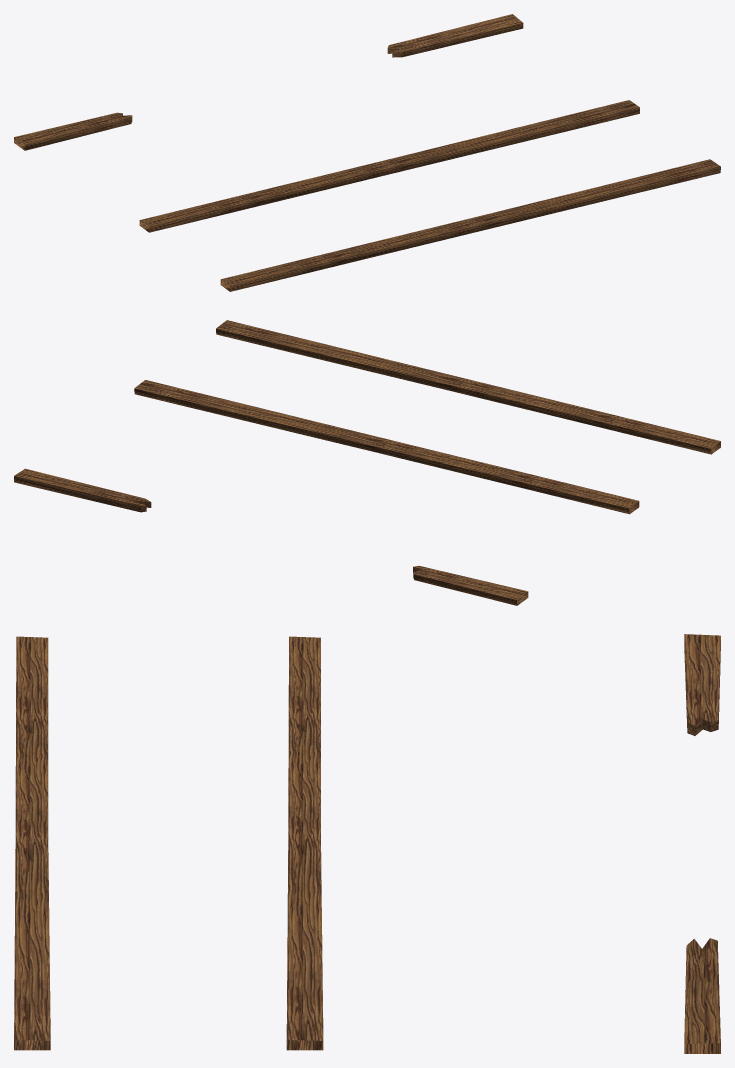
File: LAKETOWN_WAREHOUSE3_PS_WH3_RAFTER8585759.fbx
3 renders of one model, top to bottom at view 1: azimuth 30°, elevation 25°; view 2: azimuth 150°, elevation 25°; view 3: azimuth 270°, elevation 25°, orthographic. The views are drawn at different scales.
Visible parts, largest first — view 1: LAKETOWN_WAREHOUSE3_PS_WH3_RAFTER8585759; view 2: LAKETOWN_WAREHOUSE3_PS_WH3_RAFTER8585759; view 3: LAKETOWN_WAREHOUSE3_PS_WH3_RAFTER8585759.
Part boxes in pixels (x1,y1,x2,y2): LAKETOWN_WAREHOUSE3_PS_WH3_RAFTER8585759: (14, 14, 720, 291); LAKETOWN_WAREHOUSE3_PS_WH3_RAFTER8585759: (14, 320, 720, 605); LAKETOWN_WAREHOUSE3_PS_WH3_RAFTER8585759: (14, 634, 720, 1053).
Bounding box in the file's own units: 151791 × 2488 × 110532.
1 material, 1 textured.
